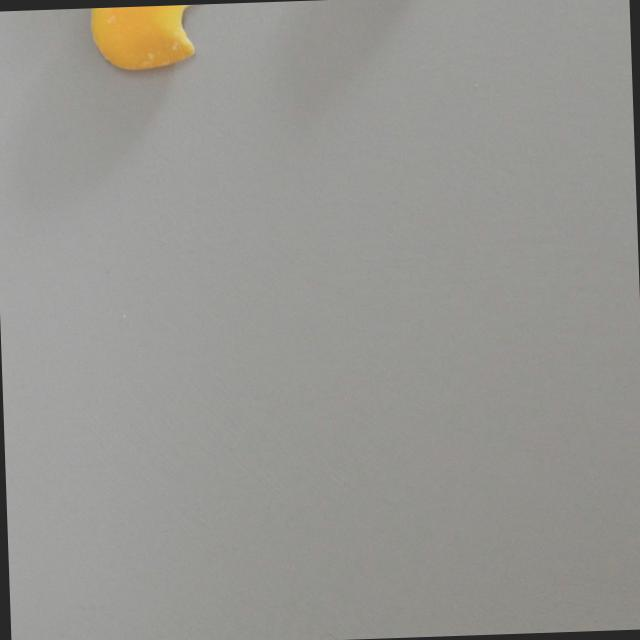pelicula: (89, 4, 209, 73)
